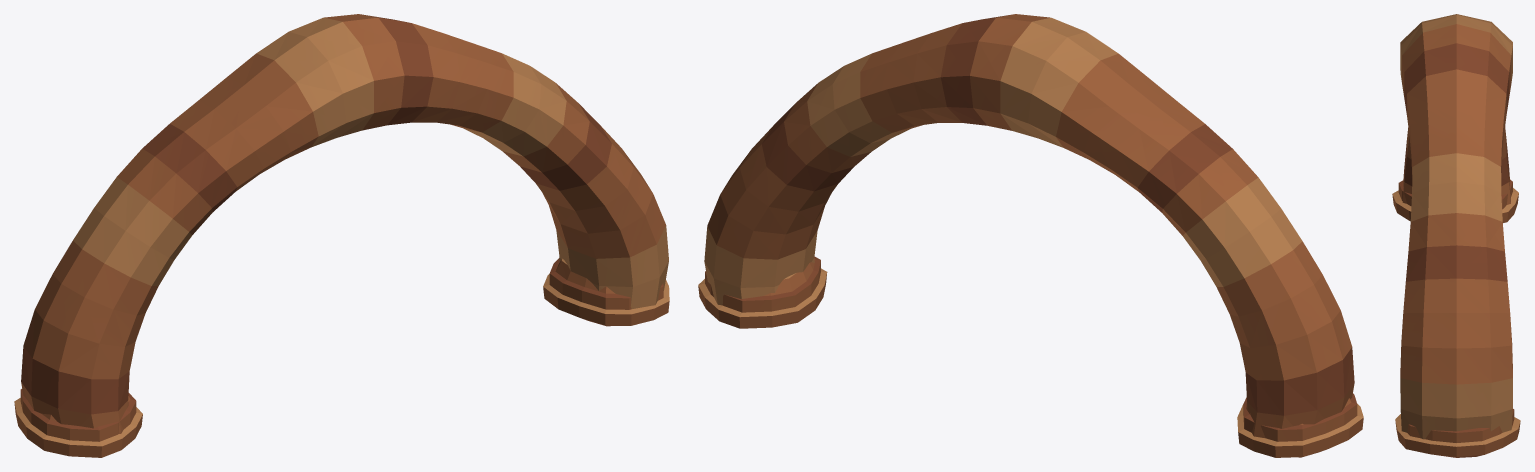
Rendered from Environment_Desert_SandstoneArch9m_001.glb.
The picture shows the model from 3 angles, left to right: view 1: azimuth 30°, elevation 25°; view 2: azimuth 150°, elevation 25°; view 3: azimuth 270°, elevation 25°; orthographic projection. The views are drawn at different scales.
Parts seen in each view (by area): view 1: DS_SandstoneArch9m_Body; view 2: DS_SandstoneArch9m_Body; view 3: DS_SandstoneArch9m_Body.
Boxes of the visible parts, bbox=[...] form: DS_SandstoneArch9m_Body: bbox=[14, 14, 669, 457]; DS_SandstoneArch9m_Body: bbox=[698, 14, 1363, 457]; DS_SandstoneArch9m_Body: bbox=[1392, 14, 1520, 457].
Size of the model in its own units: 9.45 by 4.96 by 1.89.
